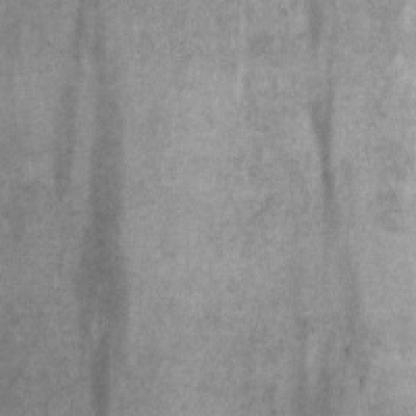inclusion: (61, 6, 126, 388), (301, 92, 346, 235)
